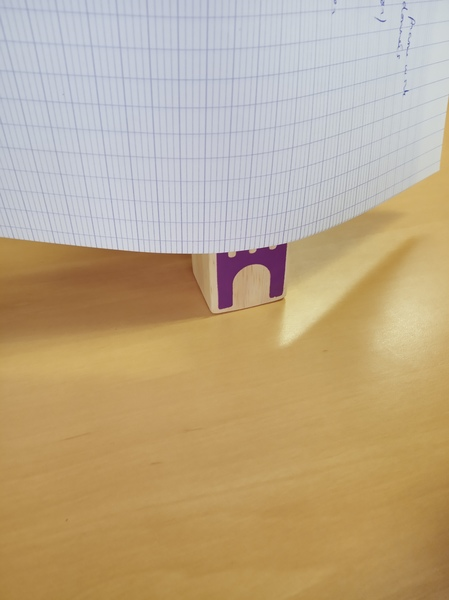violet: (192, 243, 293, 310)
